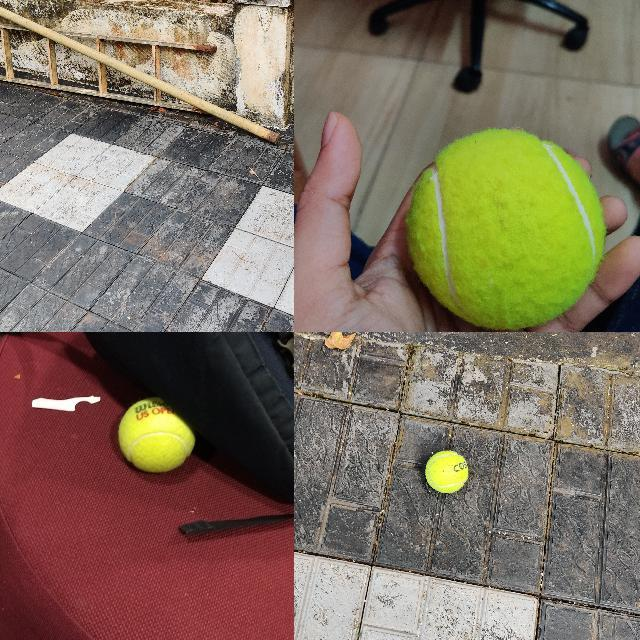tennis-ball: (407, 129, 604, 329), (116, 396, 158, 473), (424, 449, 468, 493)
